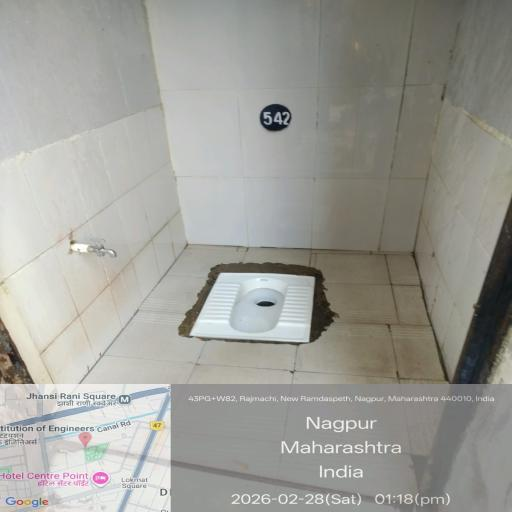clean_floor: (79, 50, 512, 210)
clean_indian: (186, 269, 334, 361)
partial_dirty_floor: (83, 262, 481, 512)
